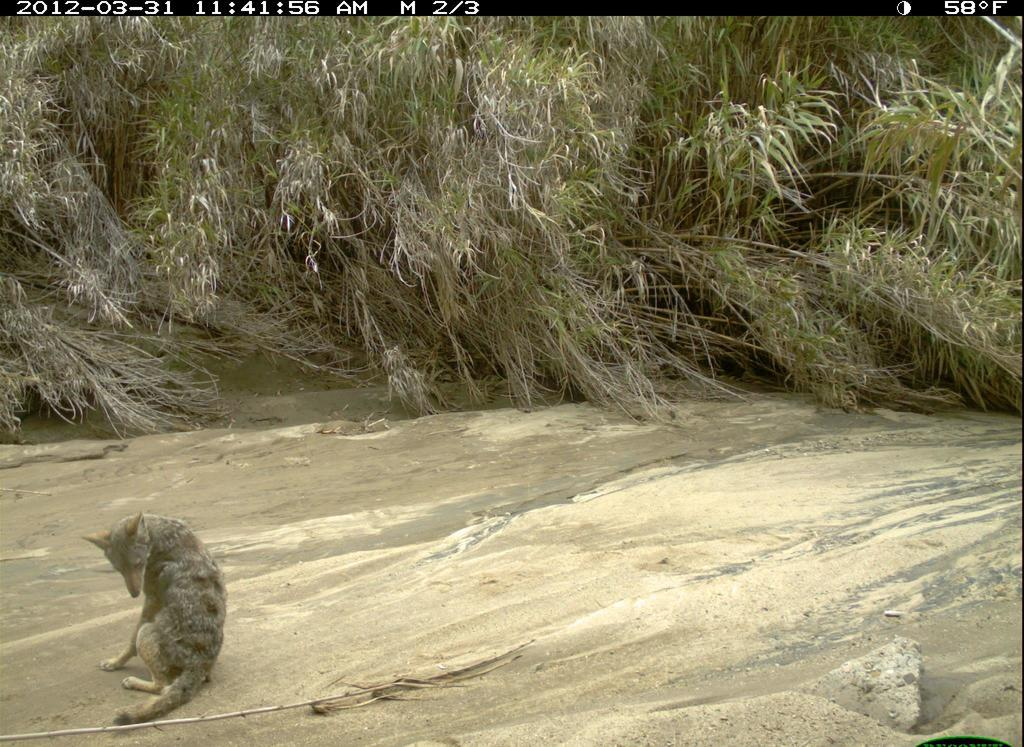coyote: (77, 505, 233, 729)
